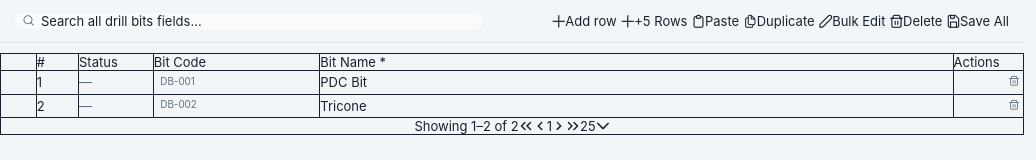
Scenario: ExcelGrid › searches every column including readonly codes
Step 1. Type "DB-001" into the field with test id "grid-search" → (249,21), box [15,13,483,29]
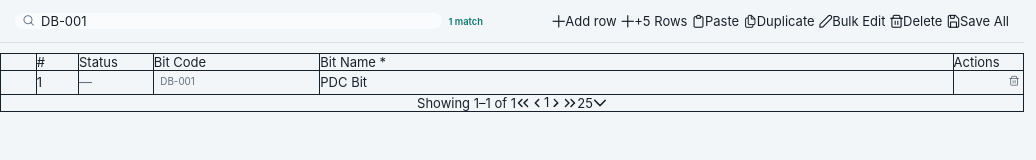
Expected: the text "Tricone" is not shown
Result: the text with test id "search-matches" reads "1 match" at [448,16,483,26]
